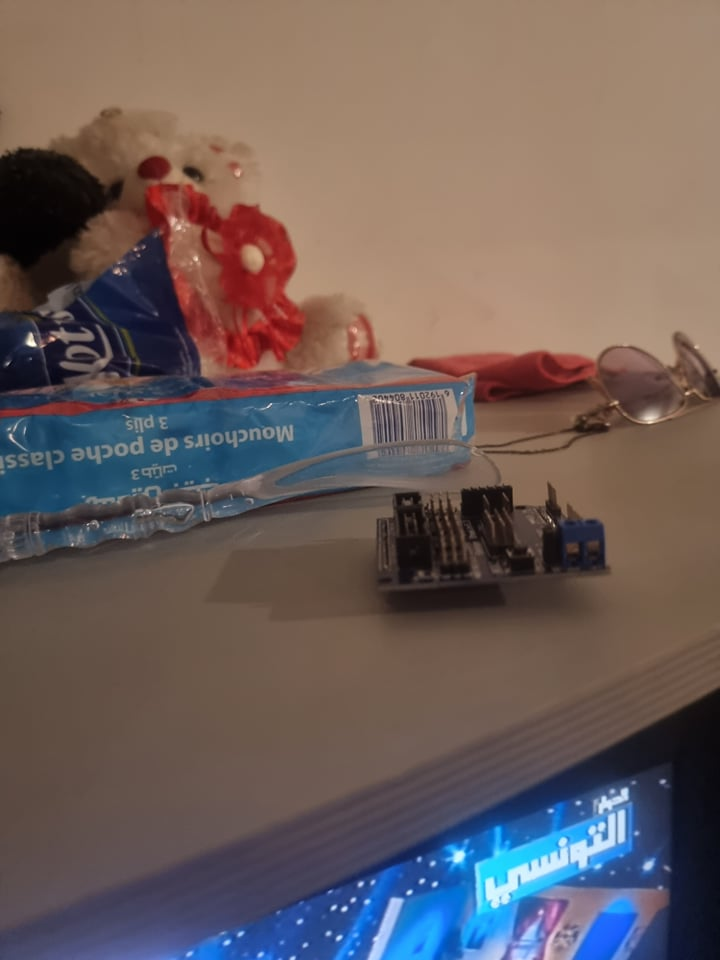5V EXPANSION: (370, 475, 618, 618)
